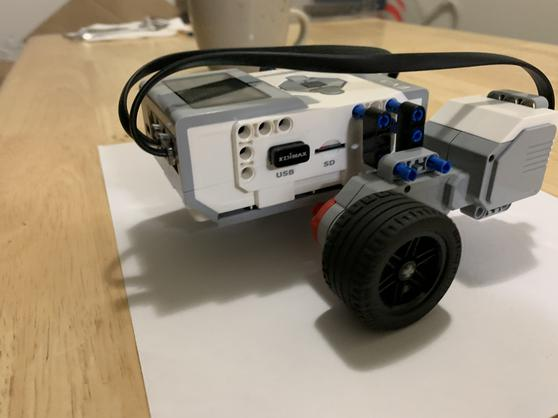robot: (102, 41, 558, 357)
